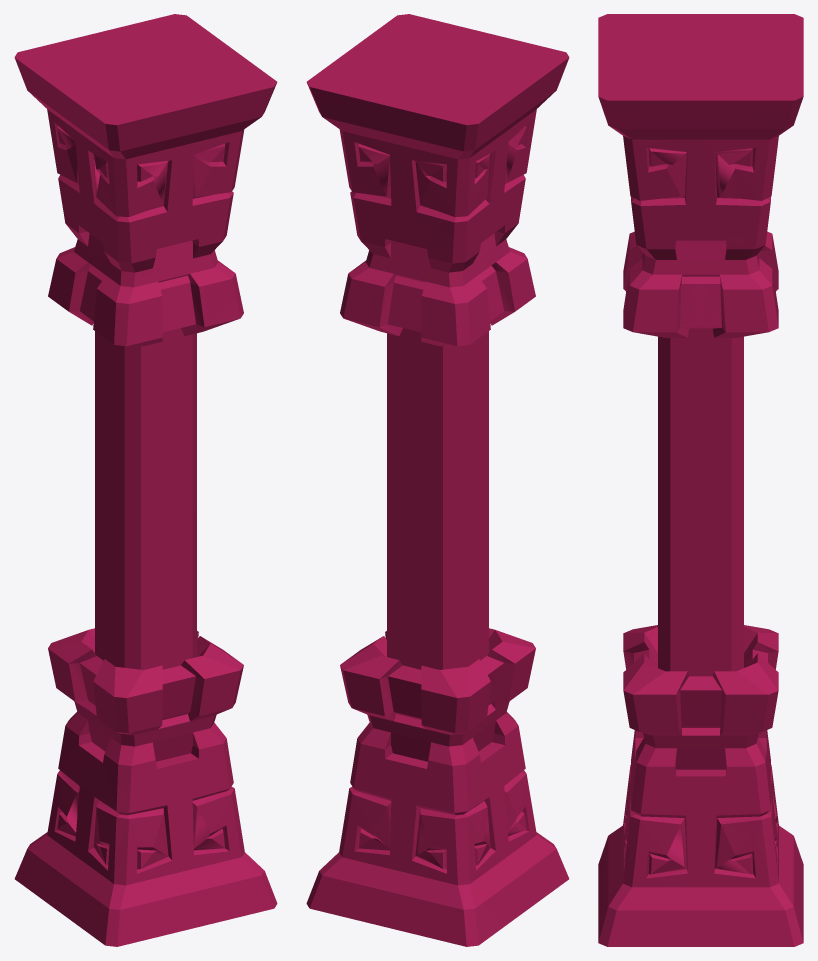
File: Boss_pillar_01.fbx
3 renders of one model, left to right at view 1: azimuth 30°, elevation 25°; view 2: azimuth 150°, elevation 25°; view 3: azimuth 270°, elevation 25°, orthographic. The views are drawn at different scales.
Parts seen in each view (by area): view 1: Boss_pillar_01_SM001; view 2: Boss_pillar_01_SM001; view 3: Boss_pillar_01_SM001.
Boxes of the visible parts, left/top/right/bottom form: Boss_pillar_01_SM001: left=14, top=14, right=277, bottom=946; Boss_pillar_01_SM001: left=306, top=14, right=569, bottom=946; Boss_pillar_01_SM001: left=598, top=14, right=803, bottom=946.
Bounding box in the file's own units: 263 × 1200 × 264.
